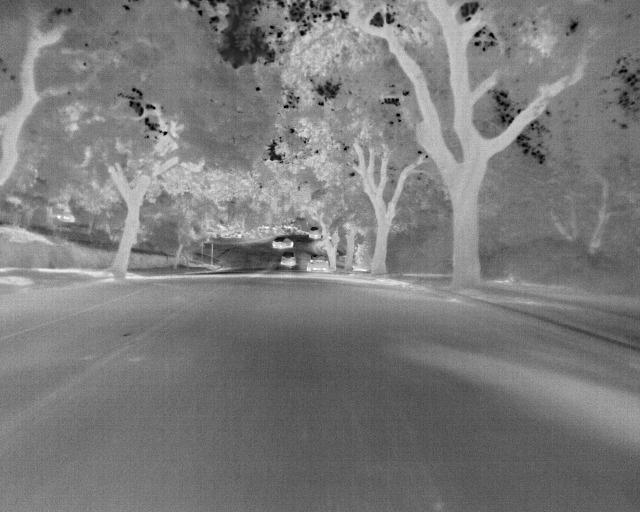car: (306, 254, 329, 275), (272, 235, 292, 248), (280, 252, 296, 268), (308, 226, 321, 239)
